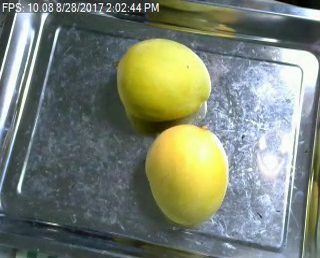Mango: (147, 124, 229, 224), (117, 39, 211, 121)
